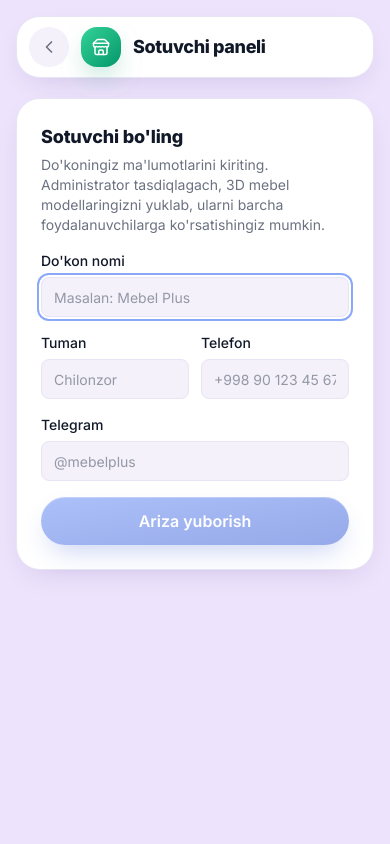
Scenario: SellerPage › offers the application form to someone with no shop, and sends it
In the field labelled "Do'kon nomi": (195, 297) [41,277,349,317], type "Mebel Plus"
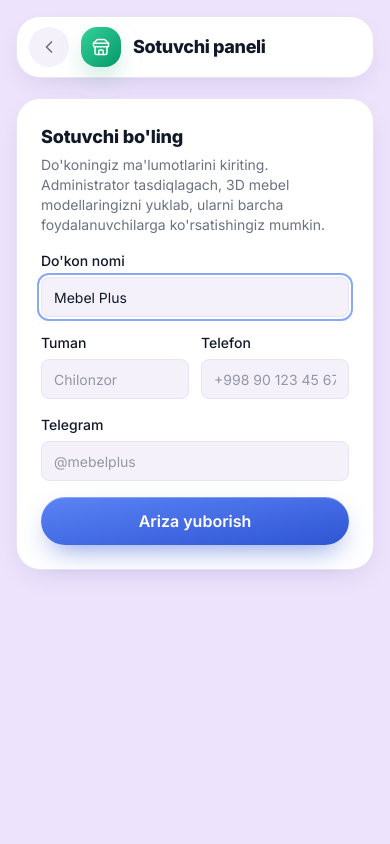
Click the button "Ariza yuborish": (195, 521) [41,497,349,545]
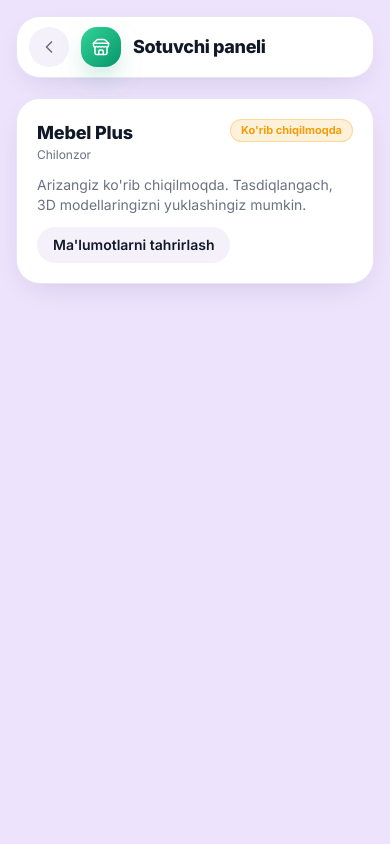
Check: the text "Arizangiz ko'rib chiqilmoqda" is shown, box [37,176,333,213]
